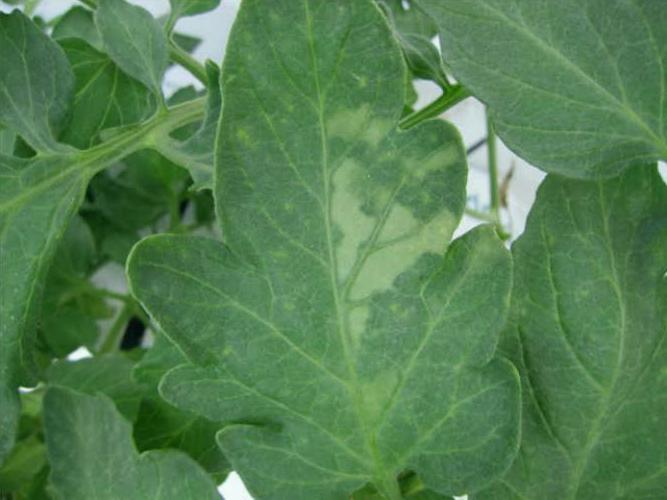Tomato leaf bacterial spot: (128, 2, 525, 483)
